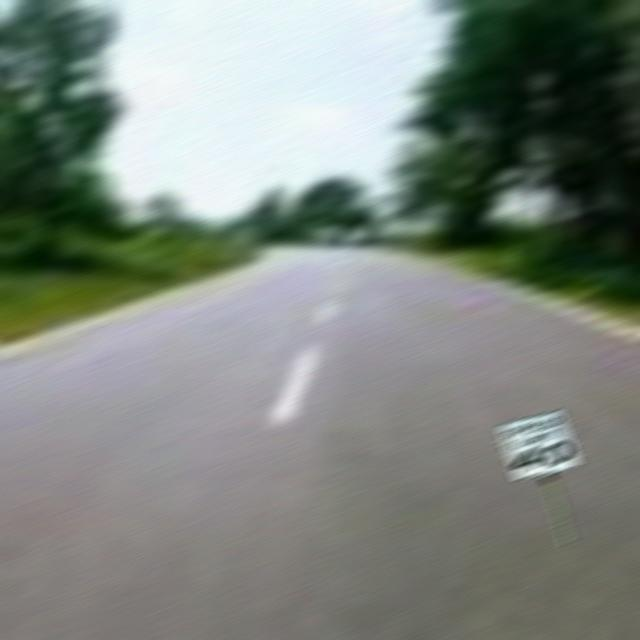speedLimit40: (496, 411, 582, 543)
